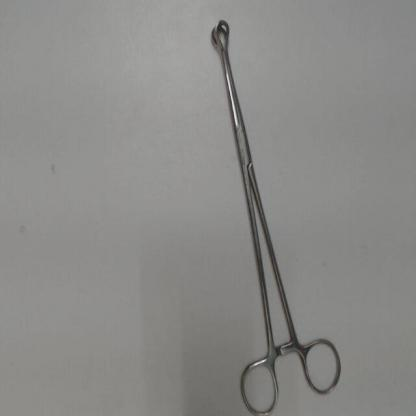8 Babcock Tissue Forceps: (203, 12, 346, 414)
